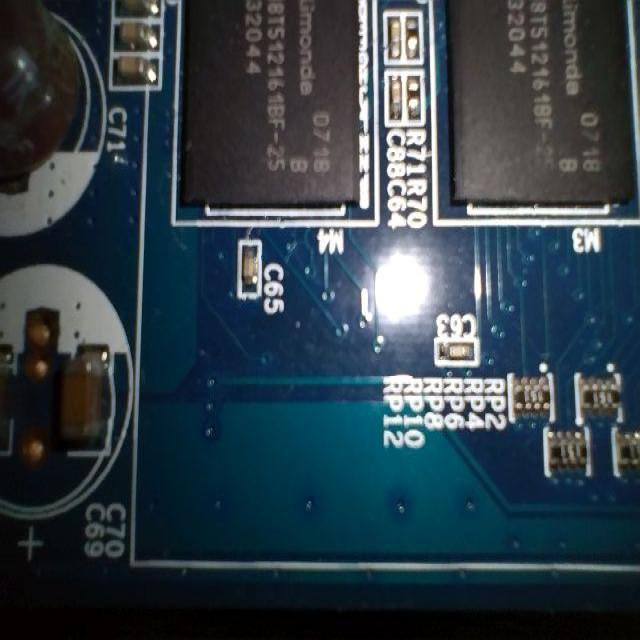capacitor: (230, 242, 271, 306), (114, 21, 166, 70), (114, 56, 162, 91), (439, 332, 481, 360), (387, 70, 407, 122), (386, 9, 405, 61)
resistor: (530, 423, 592, 478), (609, 431, 640, 478), (404, 63, 426, 125), (508, 380, 552, 410), (578, 378, 615, 410), (406, 15, 420, 57)
